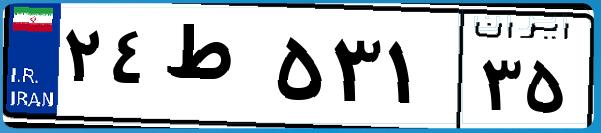1: (385, 28, 445, 110)
2: (57, 26, 110, 100)
3: (330, 28, 385, 110), (475, 38, 525, 113)
4: (110, 28, 158, 98)
5: (270, 28, 330, 110), (525, 38, 570, 115)
ط: (158, 20, 270, 120)
